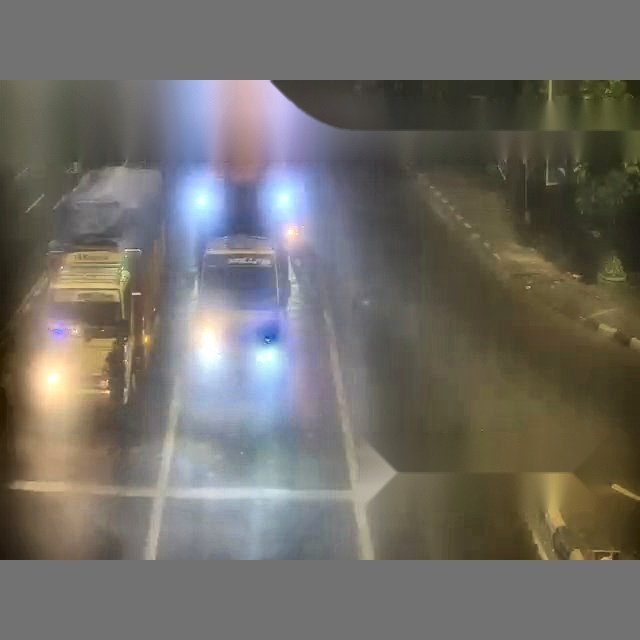Truk: (258, 71, 638, 557)
